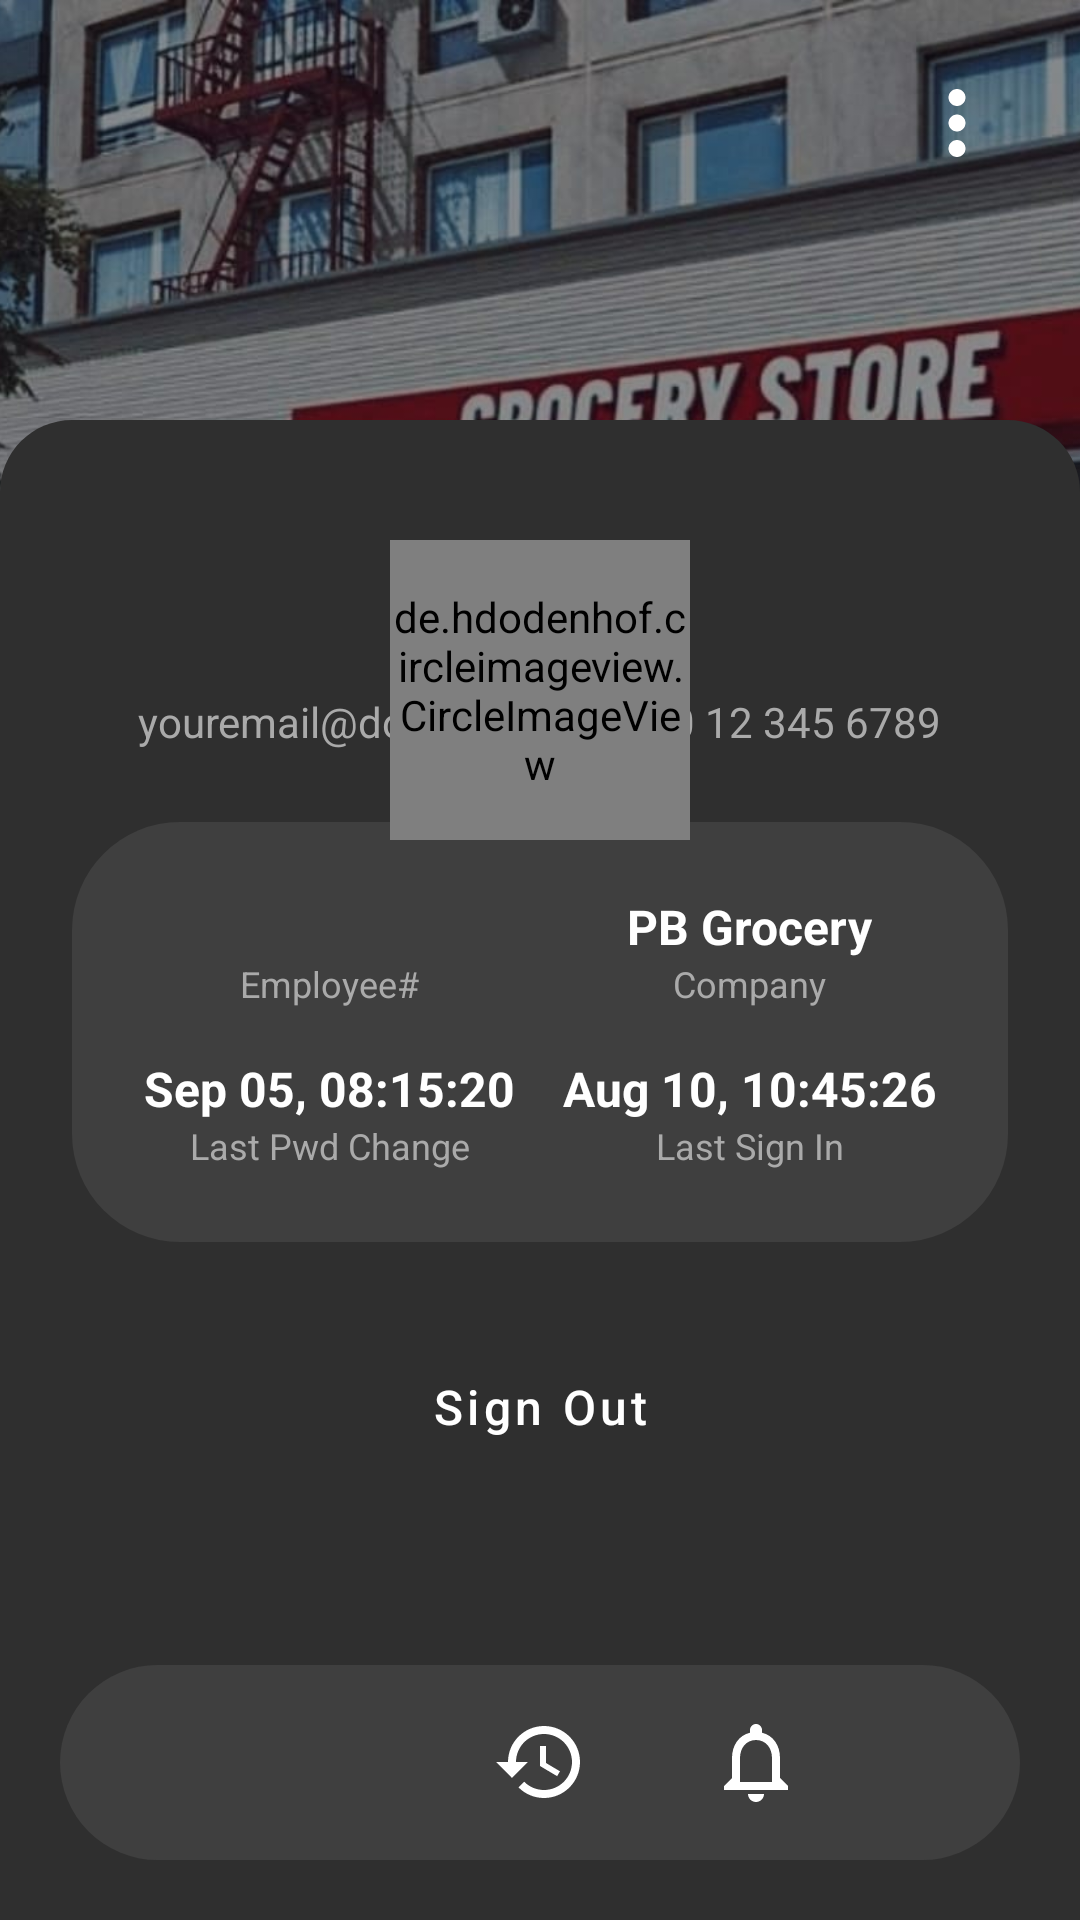

Locate icon controls on the screen. Image size 1080px x 1920px, boxes as [x1, y1, x2, y2].
history: [496, 1726, 580, 1798]
notifications none: [724, 1724, 788, 1802]
